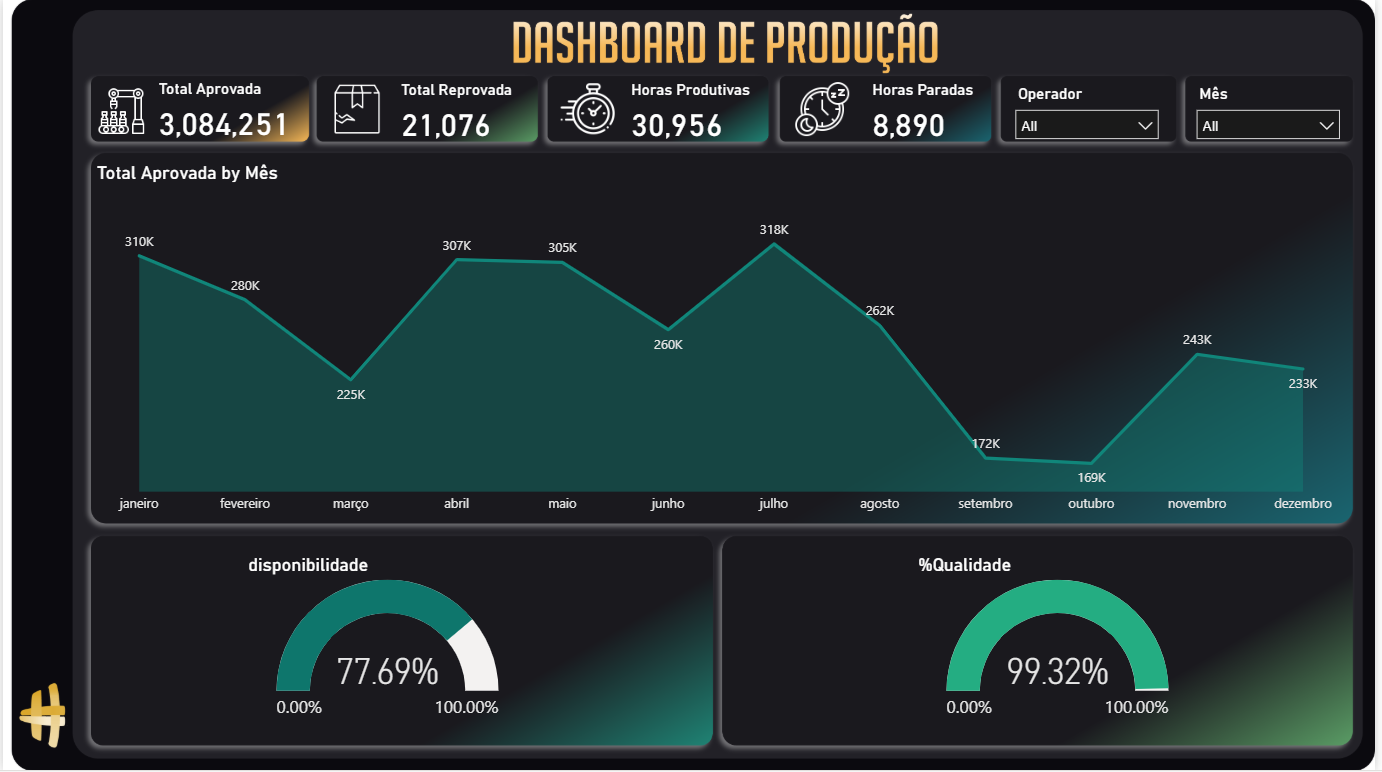

Layout of this report page (visuals, bound fields, positions):
{"tool":"powerbi","page":{"name":"Página 1","canvas":[1280,720],"ordinal":0},"visuals":[{"type":"cardVisual","fields":{"Data":["BaseProdução.Total Aprovada"]},"box":[128.6,15.7,280,178.6],"z":0},{"type":"cardVisual","fields":{"Data":["BaseProdução.Total Reprovada"]},"box":[354.3,14.3,280,180],"z":1000},{"type":"cardVisual","fields":{"Data":["BaseProdução.Horas Produtivas"]},"box":[568.6,14.3,280,180],"z":2000},{"type":"cardVisual","fields":{"Data":["BaseProdução.Horas Paradas"]},"box":[794.3,14.3,280,180],"z":3000},{"type":"areaChart","fields":{"Y":["BaseProdução.Total Aprovada"],"Category":["BaseProdução.Data Inicio.Variation.Hierarquia de datas.Mês"]},"box":[82.9,151.4,1174.3,337.1],"z":4000},{"type":"gauge","fields":{"Y":["BaseProdução.disponibilidade"]},"box":[224.3,517.1,270,164.3],"z":5000},{"type":"gauge","fields":{"Y":["BaseProdução.%Qualidade"]},"box":[848.6,517.1,270,164.3],"z":6000},{"type":"slicer","fields":{"Values":["BaseProdução.Operador"]},"box":[934.3,74.3,154.3,60],"z":7000},{"type":"slicer","fields":{"Values":["BaseProdução.Data Inicio.Variation.Hierarquia de datas.Mês"]},"box":[1102.9,74.3,154.3,60],"z":8000},{"type":"image","box":[82.9,74.3,55.7,60],"z":9000},{"type":"image","box":[304.3,71.4,55.7,62.9],"z":10000},{"type":"image","box":[515.3,71.3,60,62.7],"z":11000},{"type":"image","box":[732.7,70.9,61.8,62.7],"z":12000}]}

Visuals, with their boxes in screenshot pixels (x1, y1, x2, y2), scaled from the page's 1280x720 canvas onto the 1382x772 screenshot:
cardVisual - BaseProdução.Total Aprovada: (left=139, top=17, right=441, bottom=208)
cardVisual - BaseProdução.Total Reprovada: (left=383, top=15, right=685, bottom=208)
cardVisual - BaseProdução.Horas Produtivas: (left=614, top=15, right=916, bottom=208)
cardVisual - BaseProdução.Horas Paradas: (left=858, top=15, right=1160, bottom=208)
areaChart - BaseProdução.Total Aprovada x BaseProdução.Data Inicio.Variation.Hierarquia de datas.Mês: (left=90, top=162, right=1357, bottom=524)
gauge - BaseProdução.disponibilidade: (left=242, top=554, right=534, bottom=731)
gauge - BaseProdução.%Qualidade: (left=916, top=554, right=1208, bottom=731)
slicer - BaseProdução.Operador: (left=1009, top=80, right=1175, bottom=144)
slicer - BaseProdução.Data Inicio.Variation.Hierarquia de datas.Mês: (left=1191, top=80, right=1357, bottom=144)
image: (left=90, top=80, right=150, bottom=144)
image: (left=329, top=77, right=389, bottom=144)
image: (left=556, top=76, right=621, bottom=144)
image: (left=791, top=76, right=858, bottom=143)
